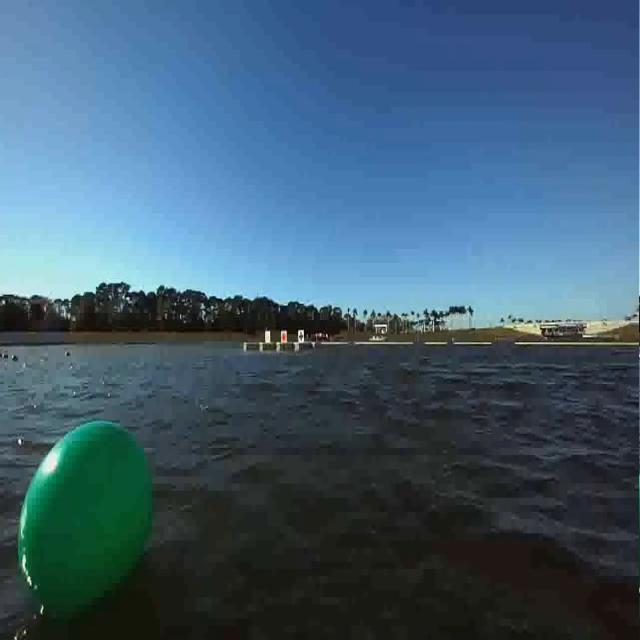green-buoy: (6, 412, 168, 638)
